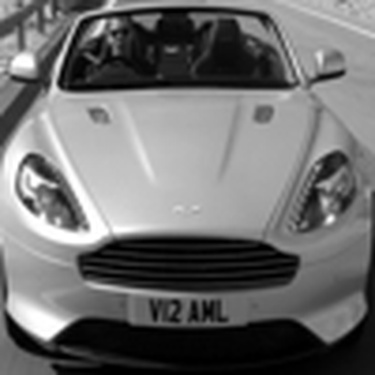car: (2, 5, 372, 372)
